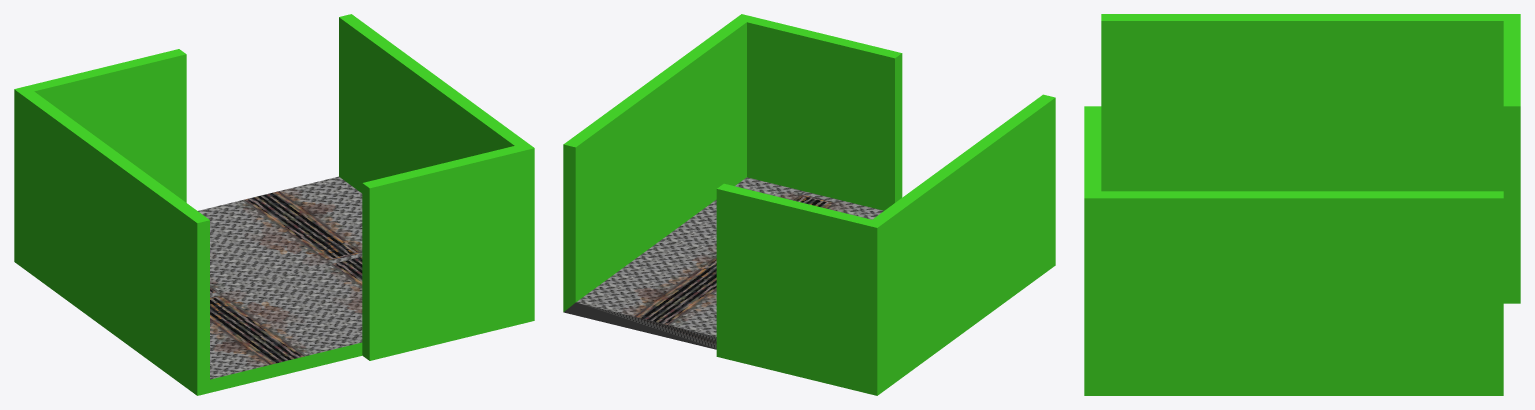
File: Room.001.fbx
3 renders of one model, left to right at view 1: azimuth 30°, elevation 25°; view 2: azimuth 150°, elevation 25°; view 3: azimuth 270°, elevation 25°, orthographic. The views are drawn at different scales.
Visible parts, largest first — view 1: Room.001; view 2: Room.001; view 3: Room.001.
Boxes of the visible parts, <box> form: Room.001: <box>14,14,534,395</box>; Room.001: <box>563,14,1055,395</box>; Room.001: <box>1084,14,1520,395</box>.
Size of the model in its own units: 1300 by 650 by 1300.
